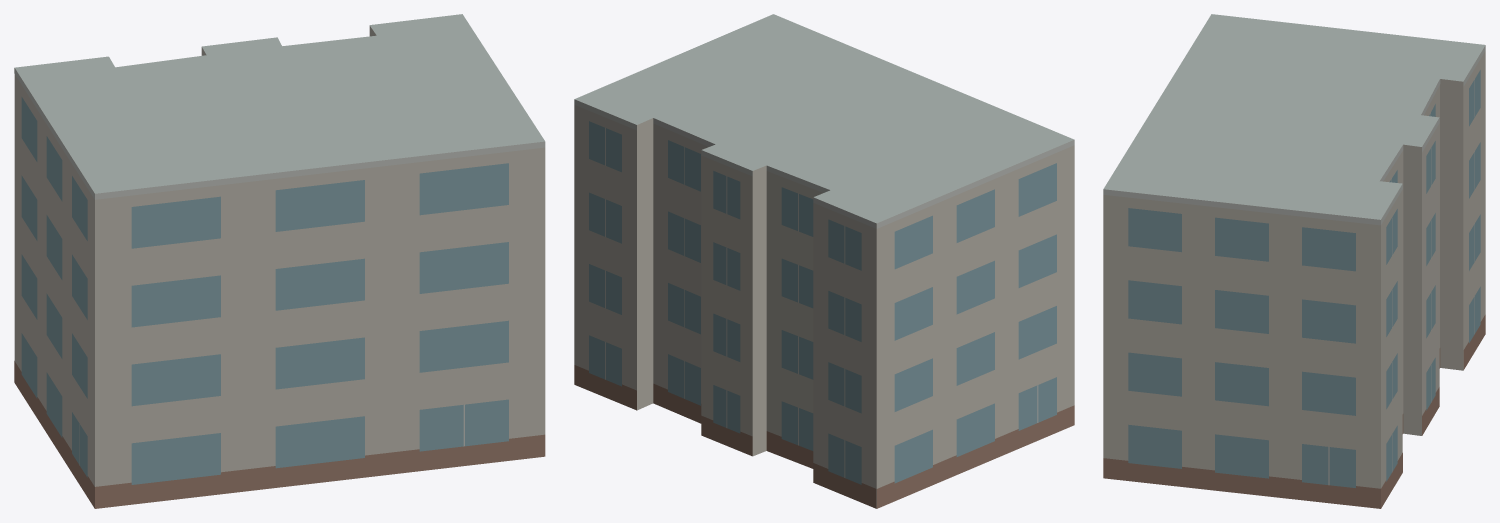
File: survey-upis-32699822.glb
3 views of the same model, side by side, from view 1: azimuth 30°, elevation 25°; view 2: azimuth 150°, elevation 25°; view 3: azimuth 270°, elevation 25° (orthographic). The views are drawn at different scales.
Visible parts, largest first — view 1: survey-upis-32699822.tmp; view 2: survey-upis-32699822.tmp; view 3: survey-upis-32699822.tmp.
Boxes of the visible parts, box(x1,y1,x2,y2) form: survey-upis-32699822.tmp: box(14, 14, 545, 508); survey-upis-32699822.tmp: box(574, 14, 1074, 508); survey-upis-32699822.tmp: box(1103, 14, 1485, 508).
Size of the model in its own units: 19.41 by 12.7 by 15.24.
